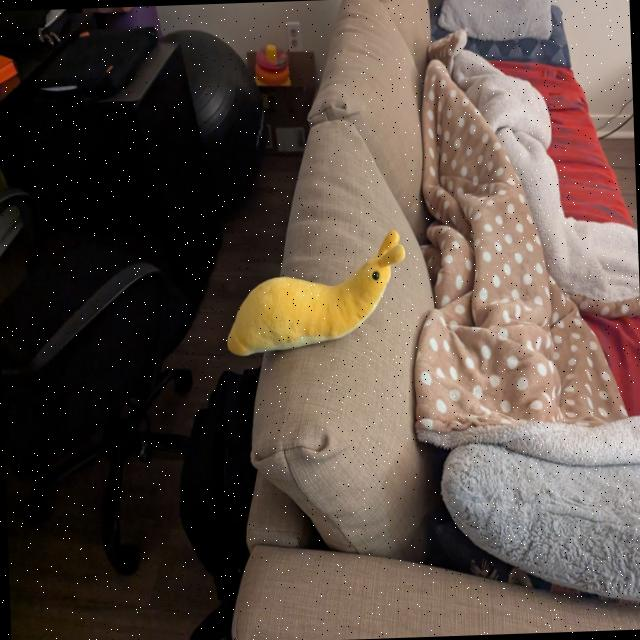banana-slug-toy: (213, 222, 413, 362)
